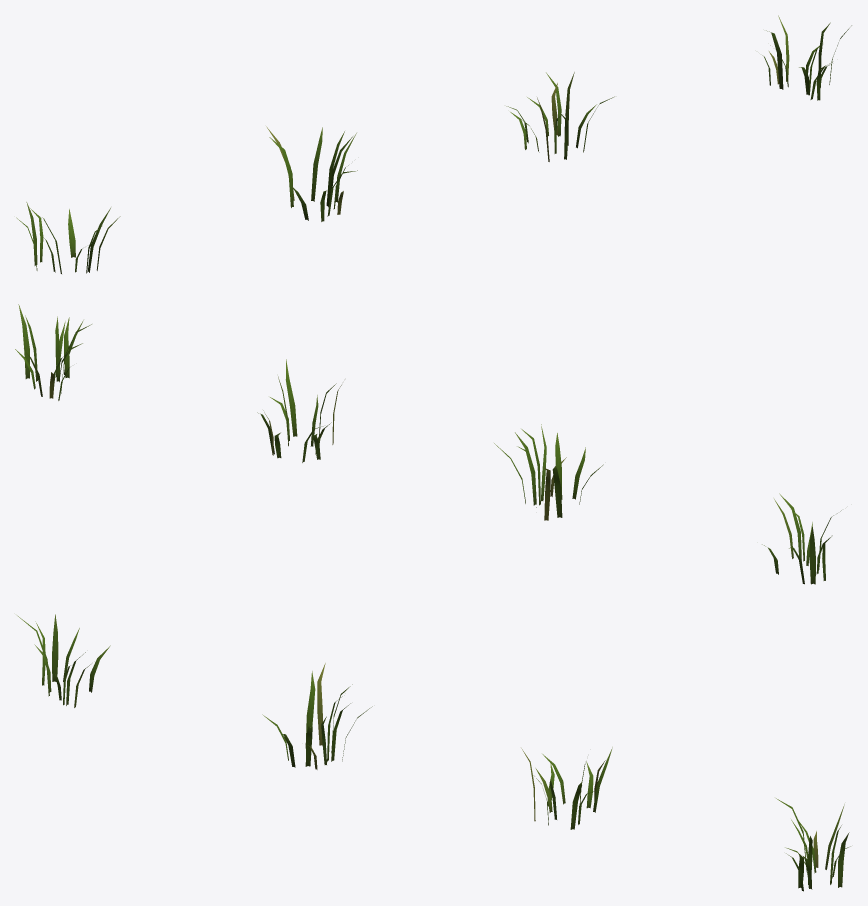
Rendered from grass_short_lod1.glb.
3 renders of one model, top to bottom at view 1: azimuth 30°, elevation 25°; view 2: azimuth 150°, elevation 25°; view 3: azimuth 330°, elevation 25°, orthographic. The views are drawn at different scales.
Parts seen in each view (by area): view 1: Grass_short_02_LOD1, Grass_short_03_LOD1, Grass_short_04_LOD1, Grass_short_01_LOD1; view 2: Grass_short_02_LOD1, Grass_short_04_LOD1, Grass_short_03_LOD1, Grass_short_01_LOD1; view 3: Grass_short_02_LOD1, Grass_short_03_LOD1, Grass_short_04_LOD1, Grass_short_01_LOD1.
Part boxes in pixels (left/top/right/bottom): Grass_short_02_LOD1: left=266, top=126, right=357, bottom=221; Grass_short_03_LOD1: left=506, top=72, right=614, bottom=161; Grass_short_04_LOD1: left=762, top=15, right=851, bottom=100; Grass_short_01_LOD1: left=16, top=202, right=120, bottom=273; Grass_short_02_LOD1: left=494, top=424, right=603, bottom=520; Grass_short_04_LOD1: left=15, top=304, right=91, bottom=400; Grass_short_03_LOD1: left=257, top=359, right=341, bottom=462; Grass_short_01_LOD1: left=762, top=493, right=841, bottom=584; Grass_short_02_LOD1: left=262, top=663, right=372, bottom=769; Grass_short_03_LOD1: left=521, top=747, right=612, bottom=829; Grass_short_04_LOD1: left=776, top=798, right=850, bottom=891; Grass_short_01_LOD1: left=17, top=614, right=110, bottom=707.
Size of the model in its own units: 2.84 by 0.2438 by 0.3447.
Materials: 1 (1 with a texture image).
